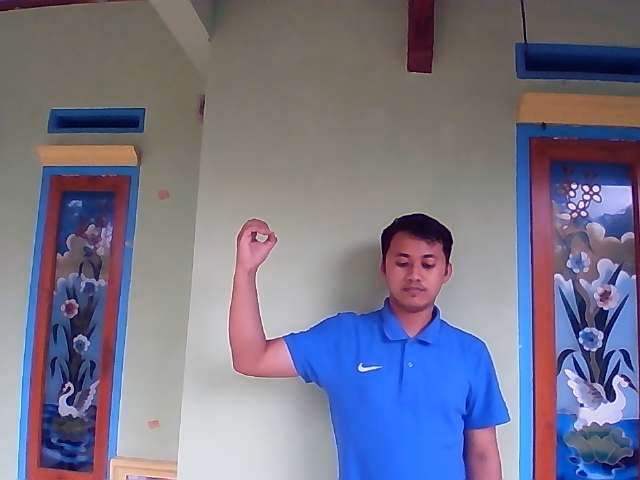O: (235, 217, 278, 269)
